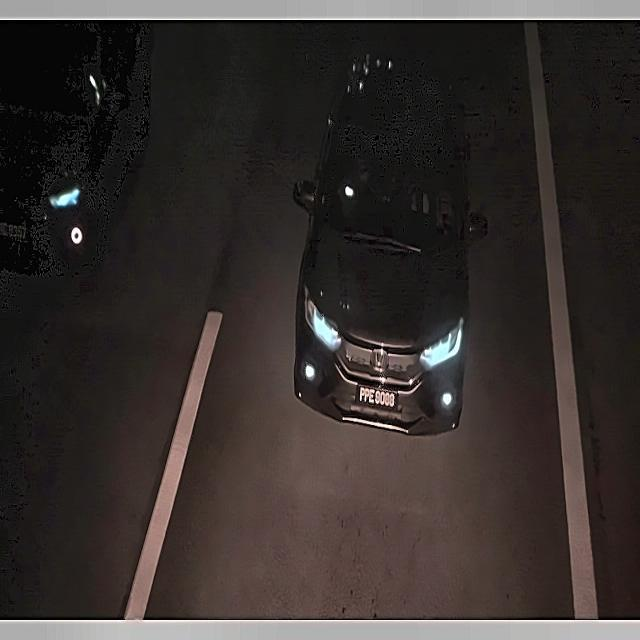car: (353, 381, 404, 415), (0, 219, 32, 251)
